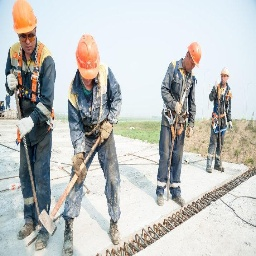helmet: (73, 34, 102, 82), (9, 1, 42, 40), (187, 37, 201, 69), (220, 66, 229, 81)
no-vest: (9, 41, 56, 129), (68, 75, 121, 147), (155, 65, 193, 131), (212, 84, 232, 131)
person: (5, 1, 62, 247), (66, 34, 127, 253), (155, 37, 201, 211), (207, 62, 234, 171)
